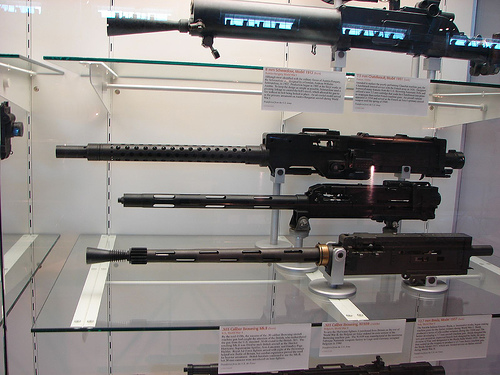rifle: (90, 1, 495, 71), (80, 237, 495, 295), (51, 131, 472, 179), (120, 191, 446, 230)
